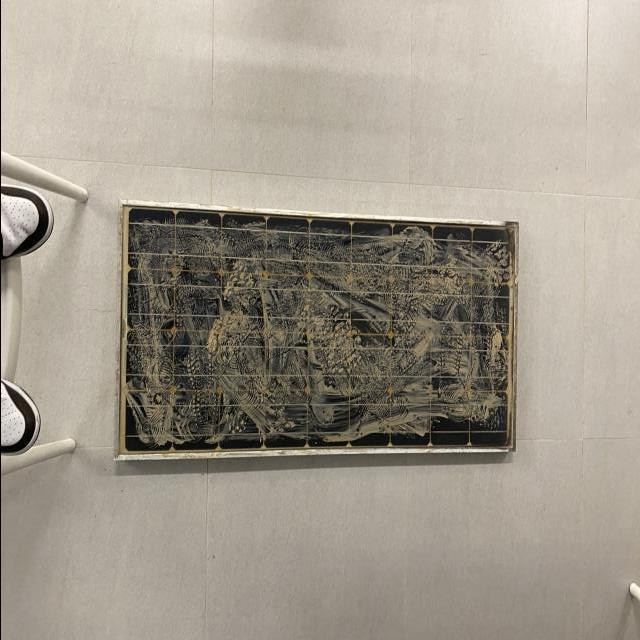Dusty: (134, 219, 514, 437)
